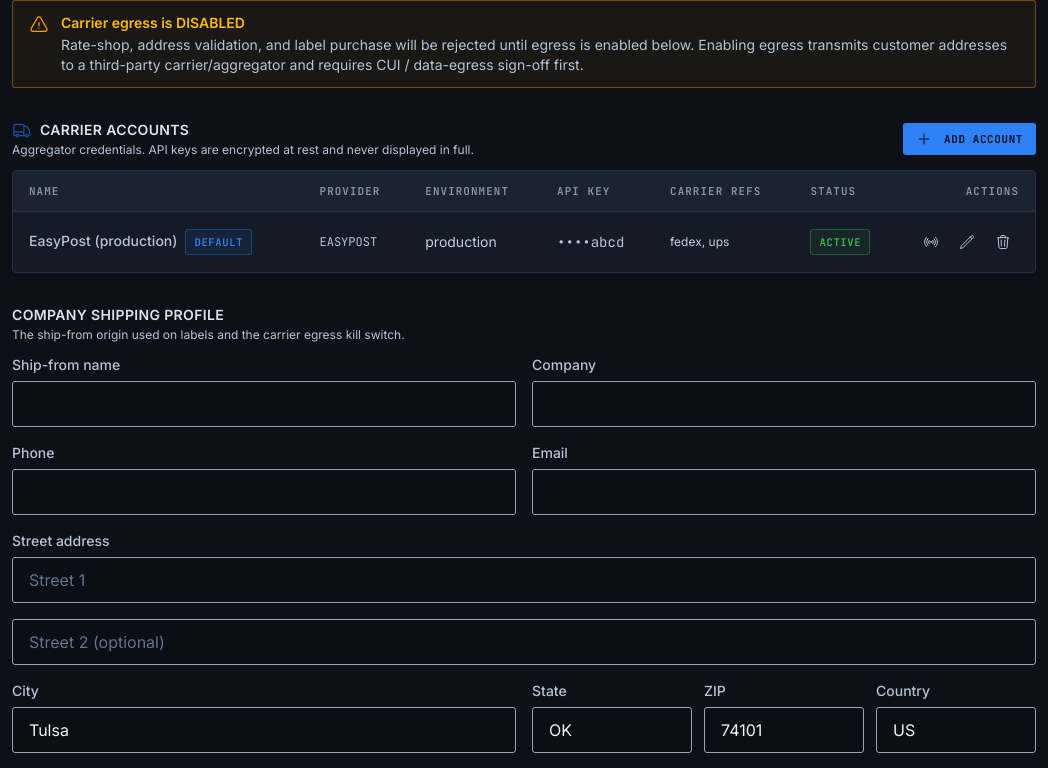
Scenario: CarrierIntegrationsTab — test connection › shows an error toast when the connection test fails (ok:false)
This screenshot has width=1048, height=768.
Expected: the text "EasyPost (production)" is shown, [29,232,177,249]
What coordinates should you click on to do the following:
click the button titled "Test connection"
I would click on:
 (931, 242)
Its box is [915,226,947,258].
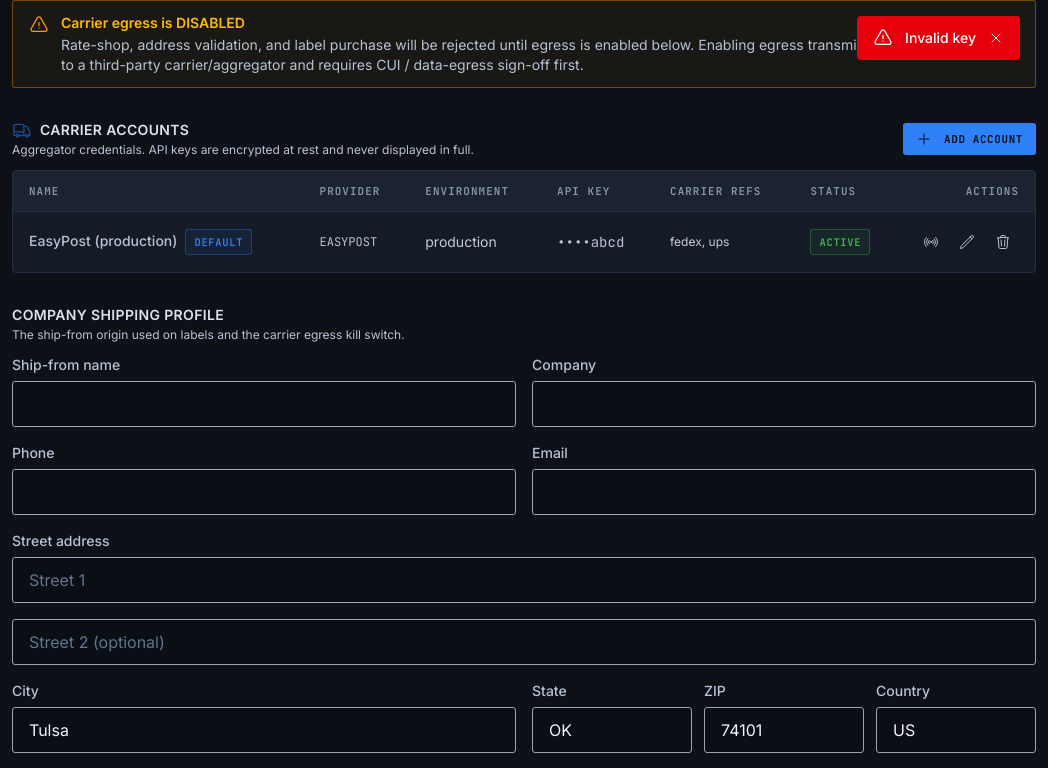
Expected: the text "Invalid key" is shown, [905,28,976,48]
